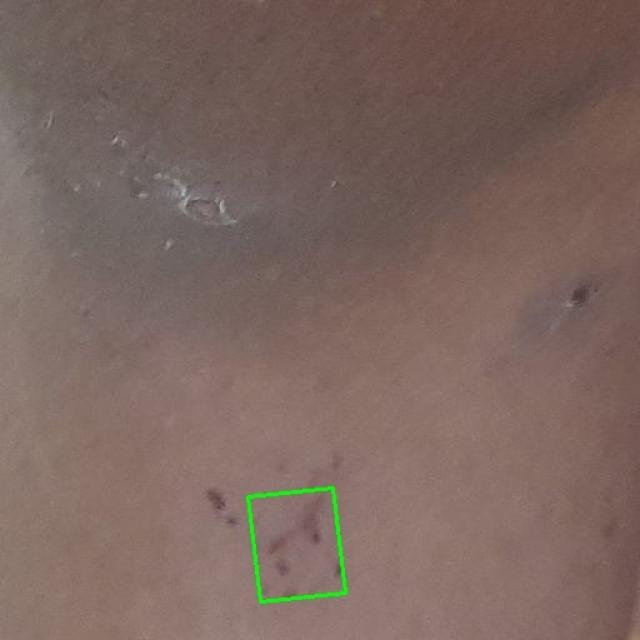Eczema: (248, 488, 346, 602)
